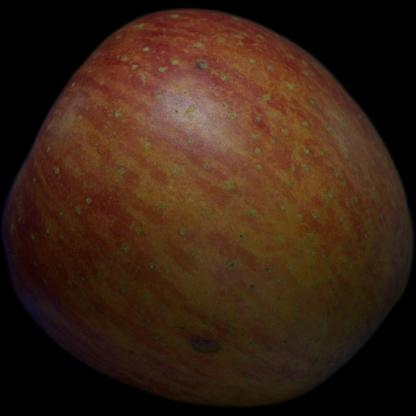defect: (168, 316, 250, 376)
